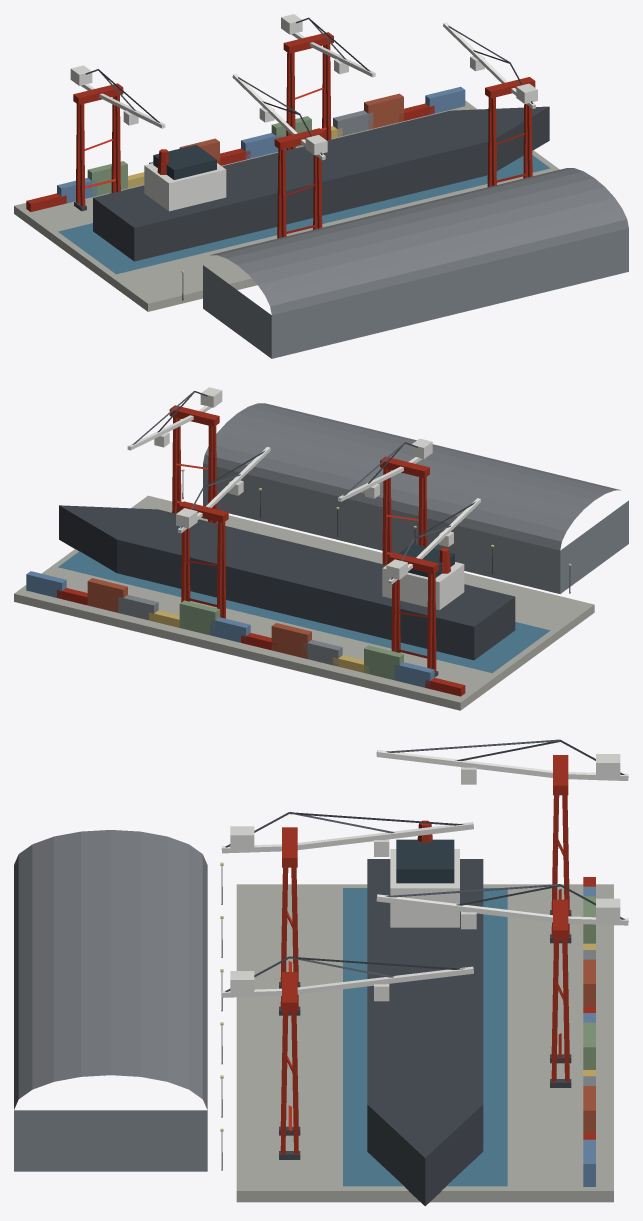
File: desktop.glb
The picture shows the model from 3 angles, top to bottom: view 1: azimuth 30°, elevation 25°; view 2: azimuth 150°, elevation 25°; view 3: azimuth 270°, elevation 25°; orthographic projection. The views are drawn at different scales.
Visible parts, largest first — view 1: lm.hunters-point-yard; view 2: lm.hunters-point-yard; view 3: lm.hunters-point-yard.
Part boxes in pixels (<box>): lm.hunters-point-yard: <box>14,14,628,358</box>; lm.hunters-point-yard: <box>14,387,628,710</box>; lm.hunters-point-yard: <box>14,739,628,1206</box>.
Bounding box in the file's own units: 157 × 45.82 × 127.
